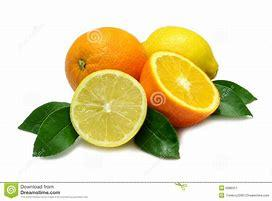orange: (56, 19, 252, 149), (51, 71, 160, 149), (142, 48, 230, 118), (51, 24, 150, 77)
